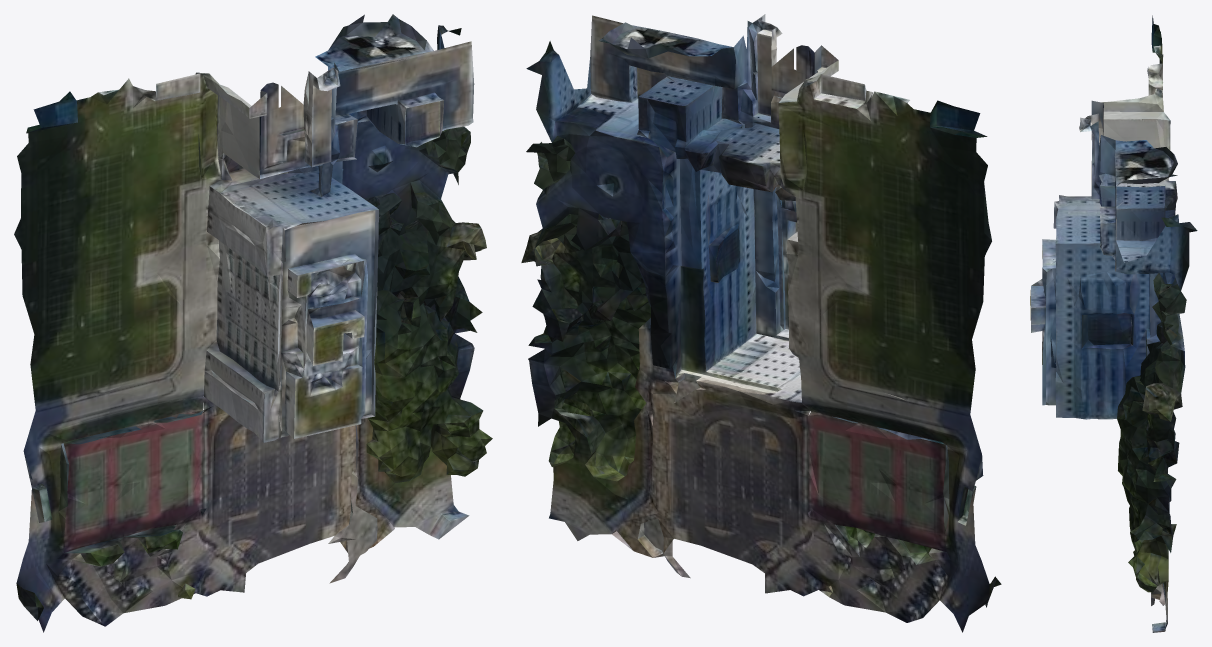
File: level_0_0_0.obj
3 views of the same model, side by side, from view 1: azimuth 30°, elevation 25°; view 2: azimuth 150°, elevation 25°; view 3: azimuth 270°, elevation 25° (orthographic). The views are drawn at different scales.
Visible parts, largest first — view 1: group_tex_0; view 2: group_tex_0; view 3: group_tex_0.
Part boxes in pixels (x1,y1,x2,y2): group_tex_0: (14, 14, 492, 632); group_tex_0: (521, 14, 1001, 632); group_tex_0: (1030, 15, 1197, 632).
Bounding box in the file's own units: 159 × 177 × 57.13.
Materials: 1 (1 with a texture image).
